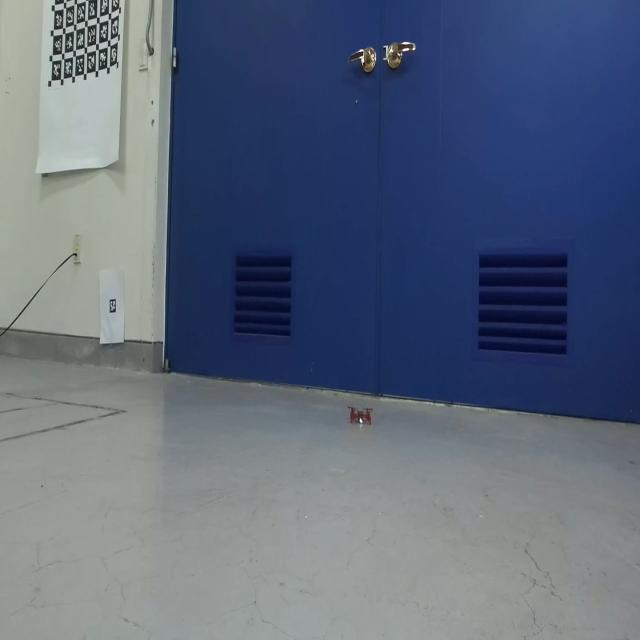crazyflie: (346, 400, 374, 431)
